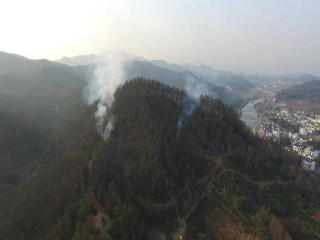smoke: (78, 63, 131, 145), (177, 73, 218, 139)
